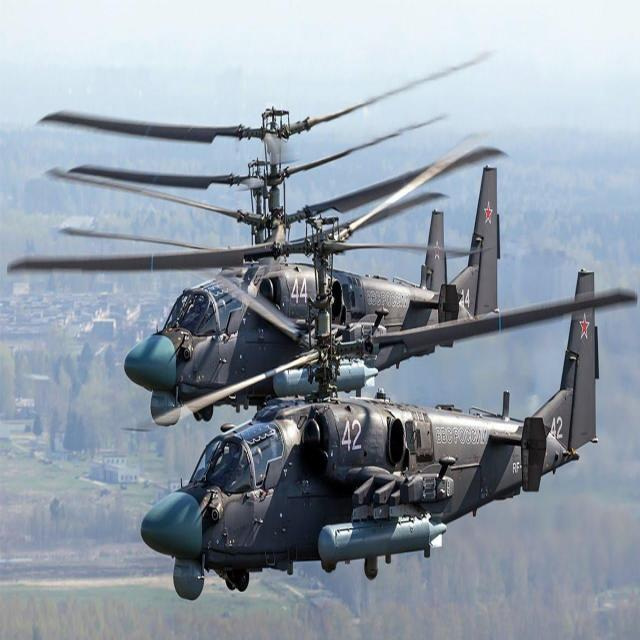MIL_HELO: (17, 214, 640, 614), (41, 75, 508, 382), (0, 166, 547, 427)
